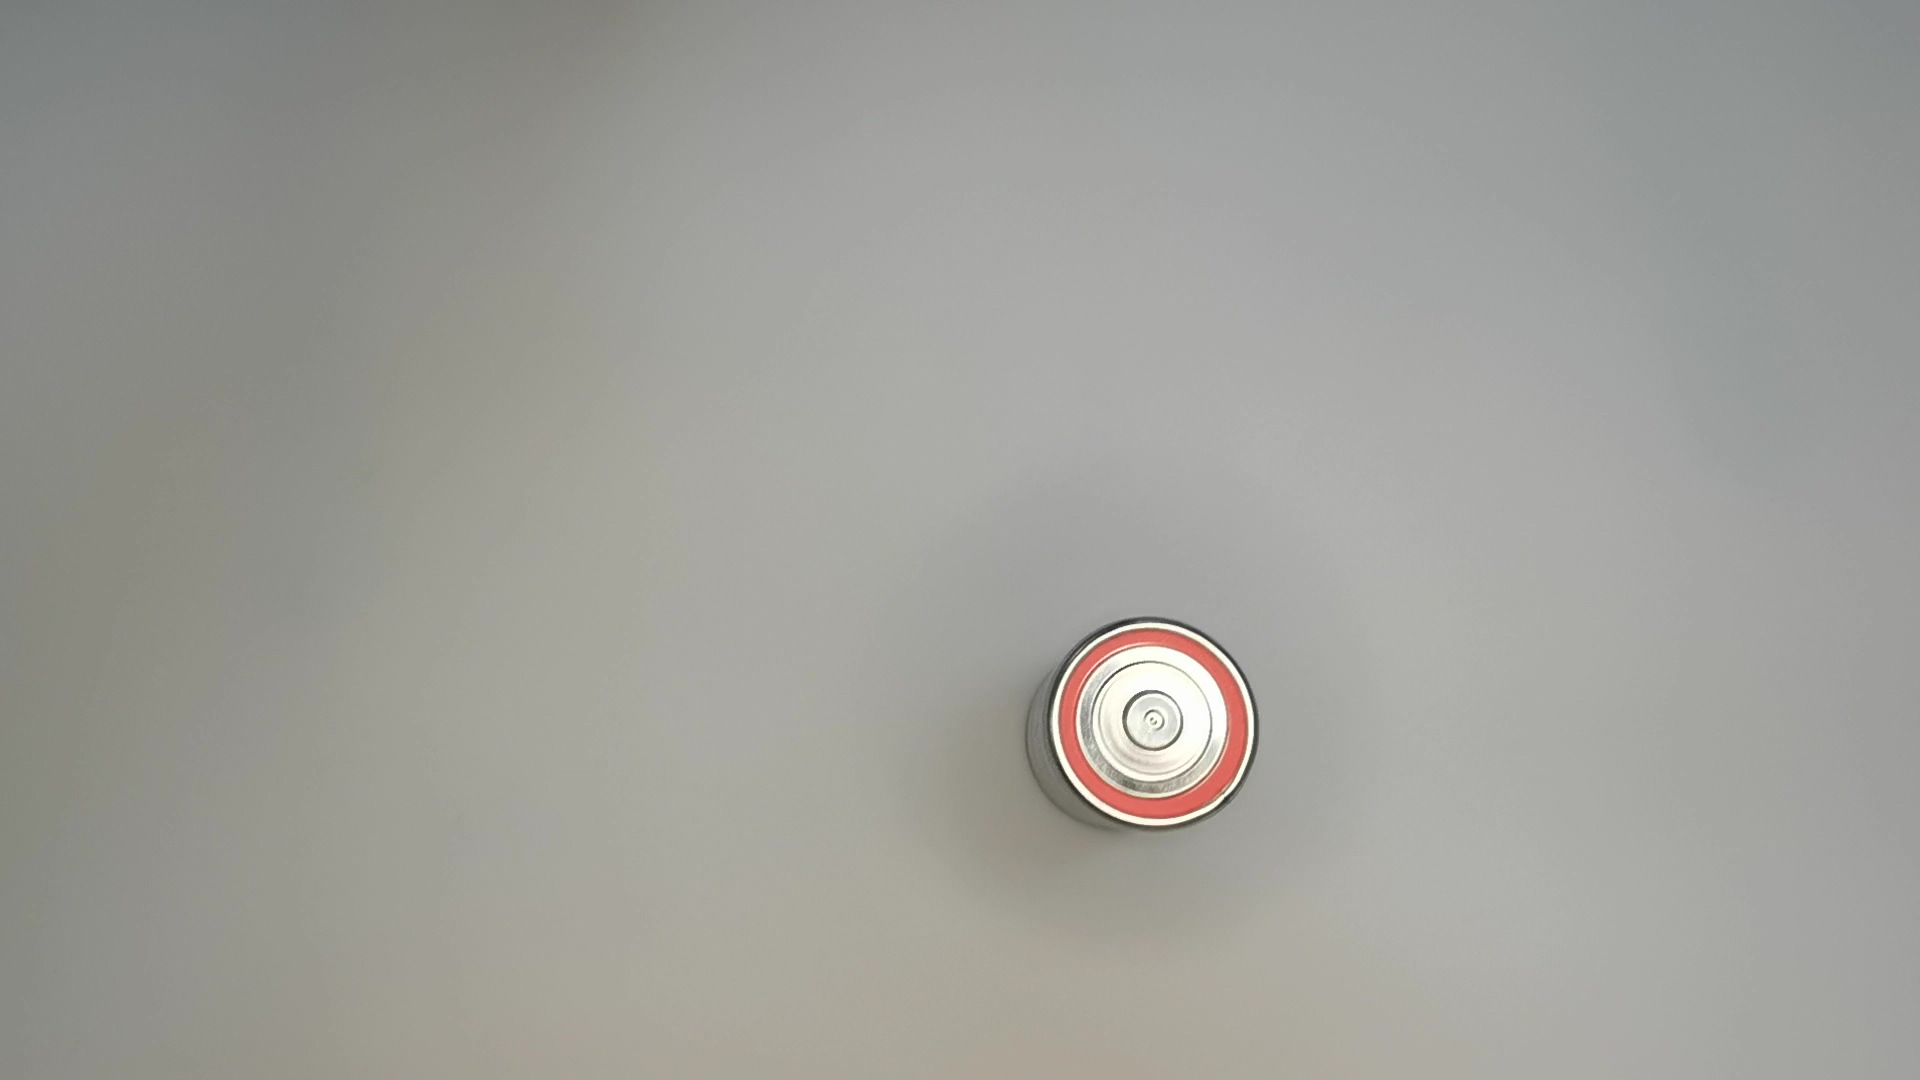battery: (1017, 612, 1263, 843)
